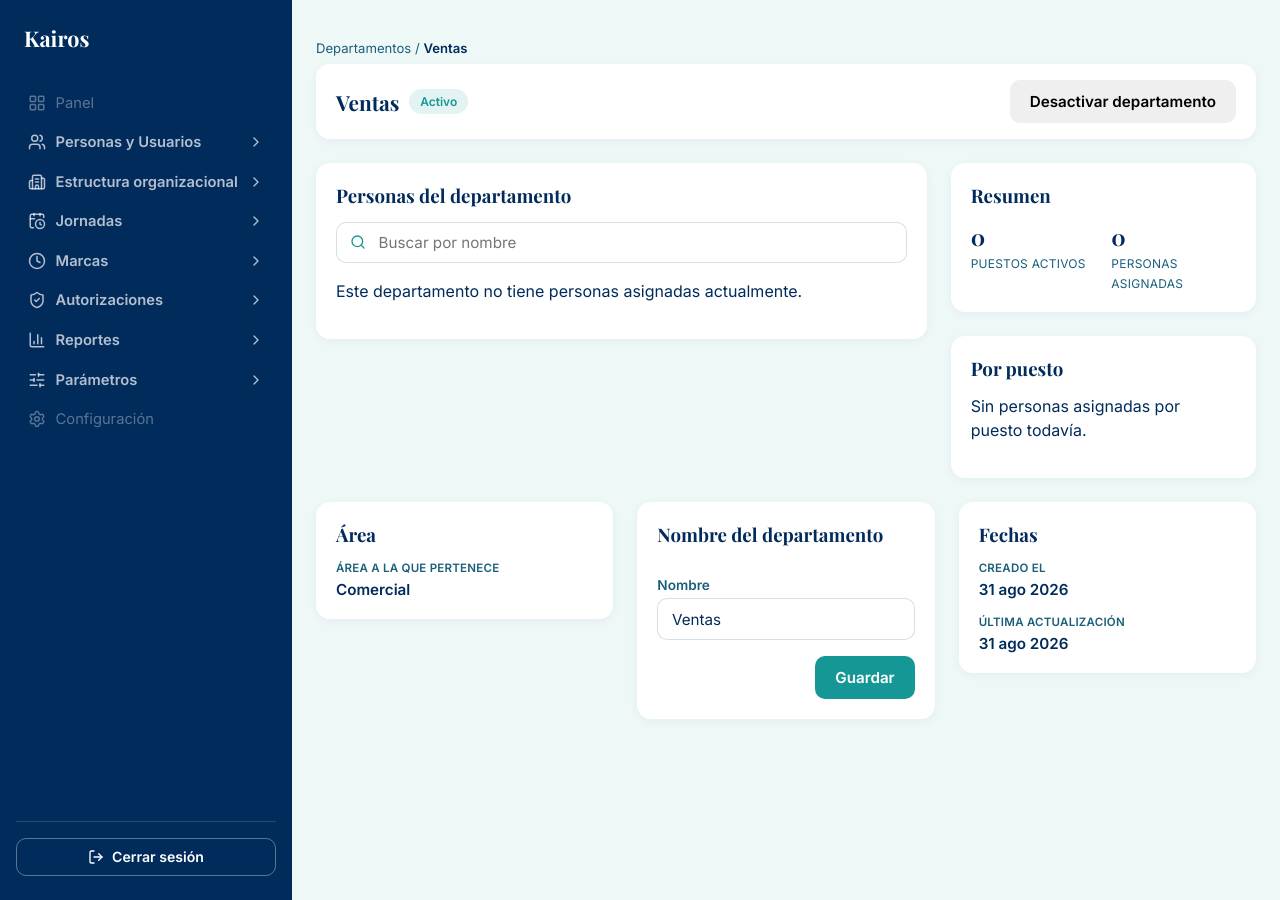
it: FichaDepartamentoPage › desactiva el departamento vía PATCH /api/departamentos/:id/estado
The image size is (1280, 900).
Expected: the text "Ventas" next to "Departamentos" is shown, [423, 40, 467, 56]
Click the button "Desactivar departamento" at (1123, 102), box [1010, 80, 1236, 123]
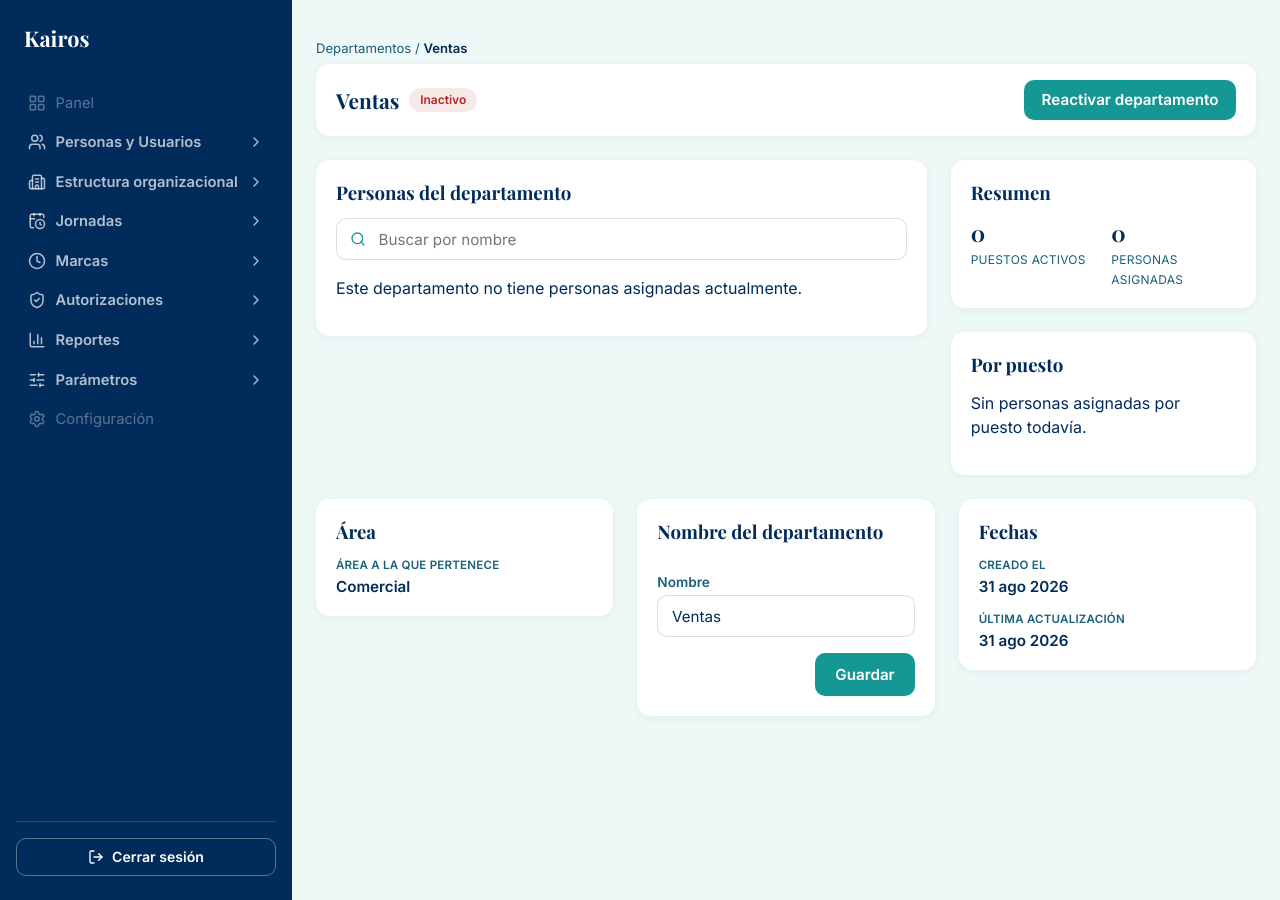
Expected: the text "Inactivo" is shown, [409, 88, 477, 112]
Expected: the button "Reactivar departamento" is shown, [1024, 80, 1236, 120]
